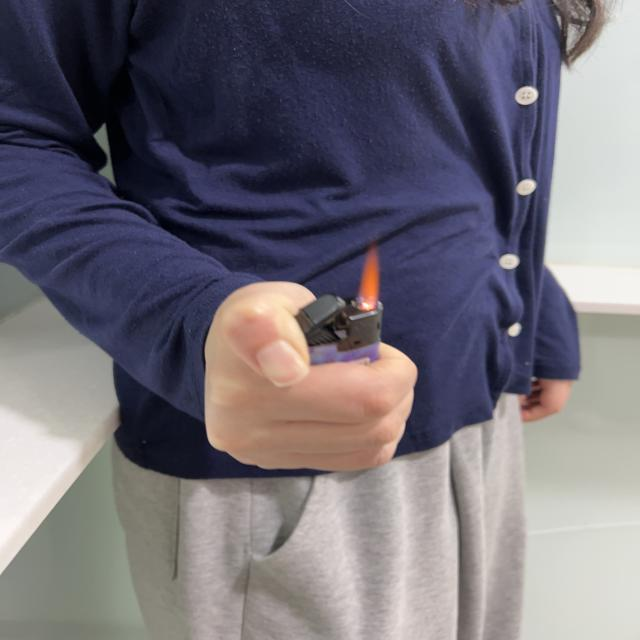fire: (362, 243, 380, 310)
